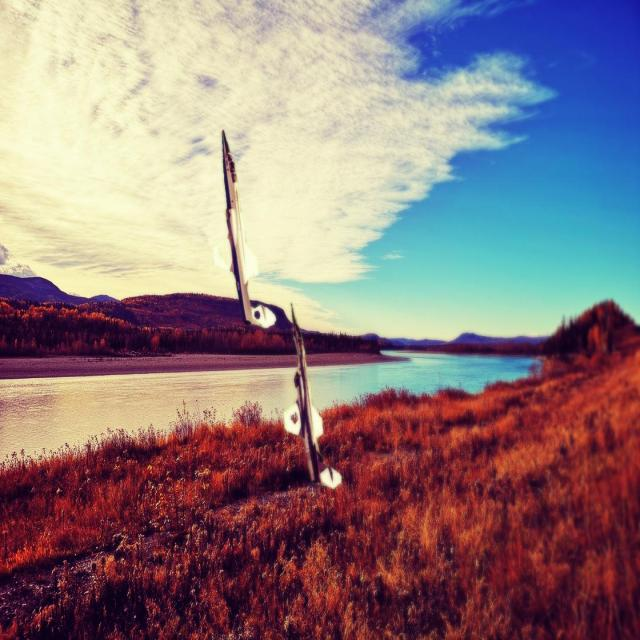airplane: (219, 128, 278, 326), (287, 303, 343, 489)
